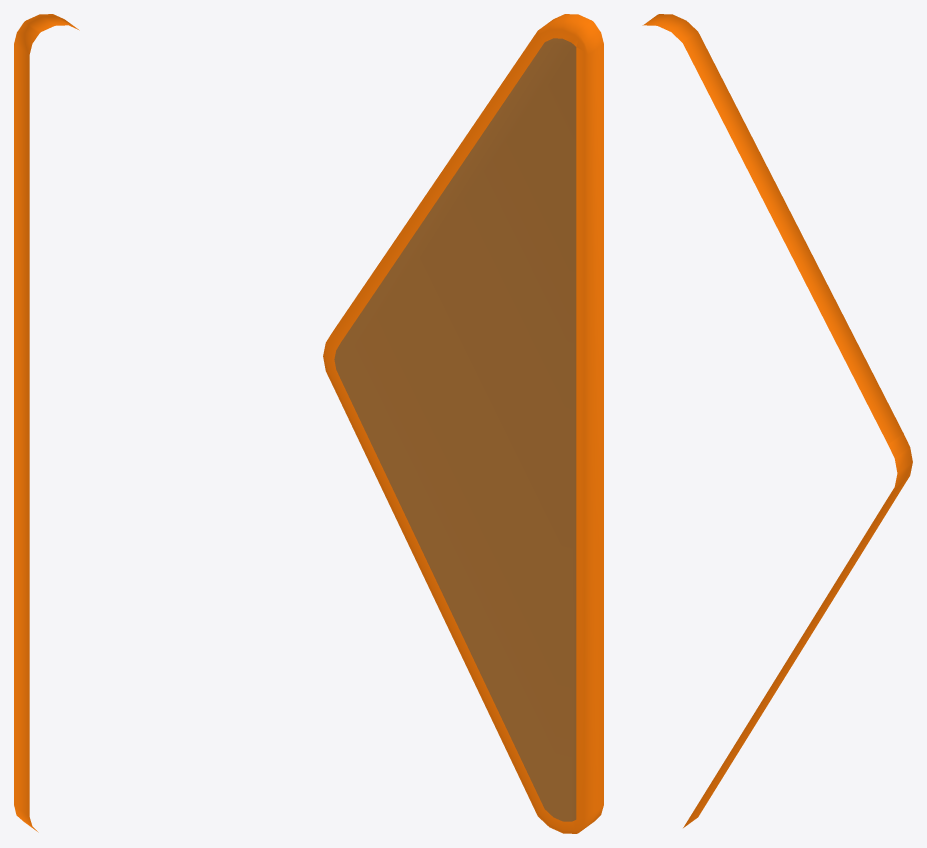
Rendered from menu_arrow_long.glb.
3 views of the same model, side by side, from view 1: azimuth 30°, elevation 25°; view 2: azimuth 150°, elevation 25°; view 3: azimuth 330°, elevation 25° (orthographic).
Parts seen in each view (by area): view 1: Cube.004; view 2: Cube.004; view 3: Cube.004.
Part boxes in pixels (x1,y1,x2,y2): Cube.004: [14, 14, 79, 832]; Cube.004: [323, 14, 603, 833]; Cube.004: [642, 14, 912, 827].
Size of what is drawn, in the model's own units: 0.6883 by 2 by 0.0722.
1 material, 1 textured.
